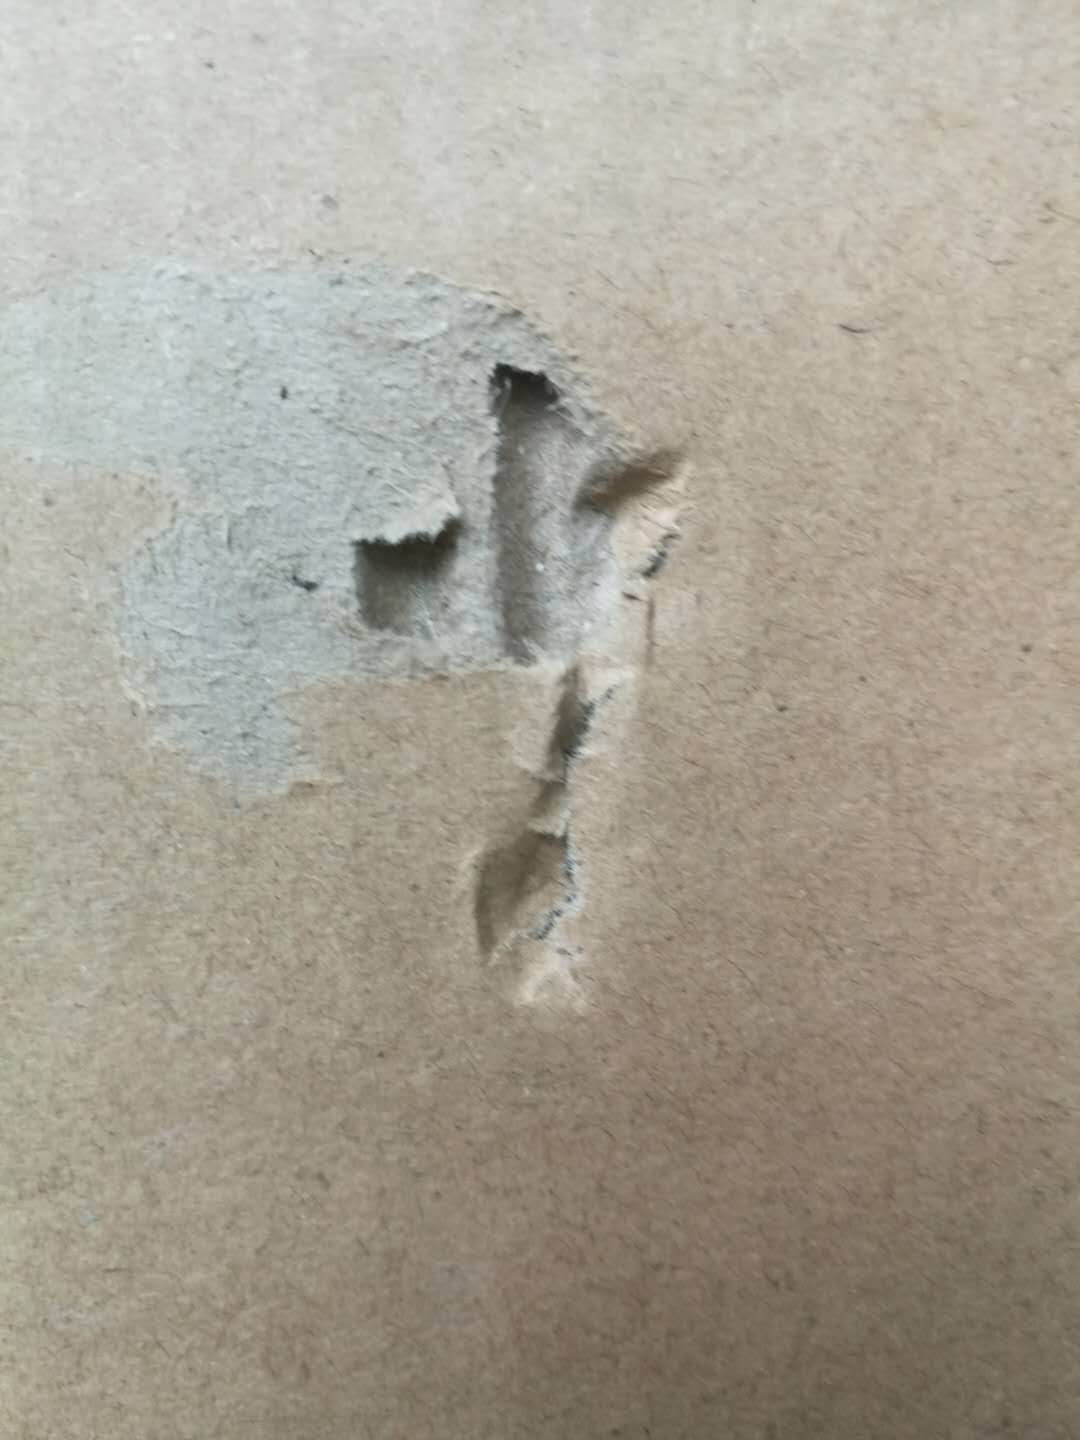defect: (1, 212, 740, 1058)
